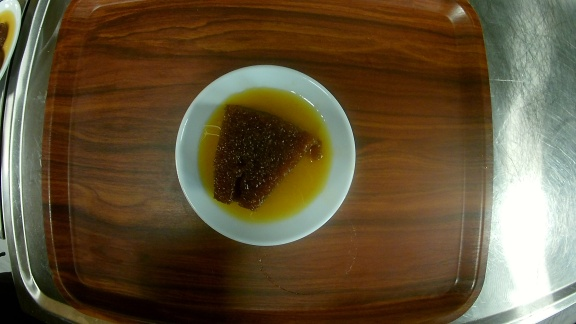ekmekkadayifi: (174, 65, 357, 247)
